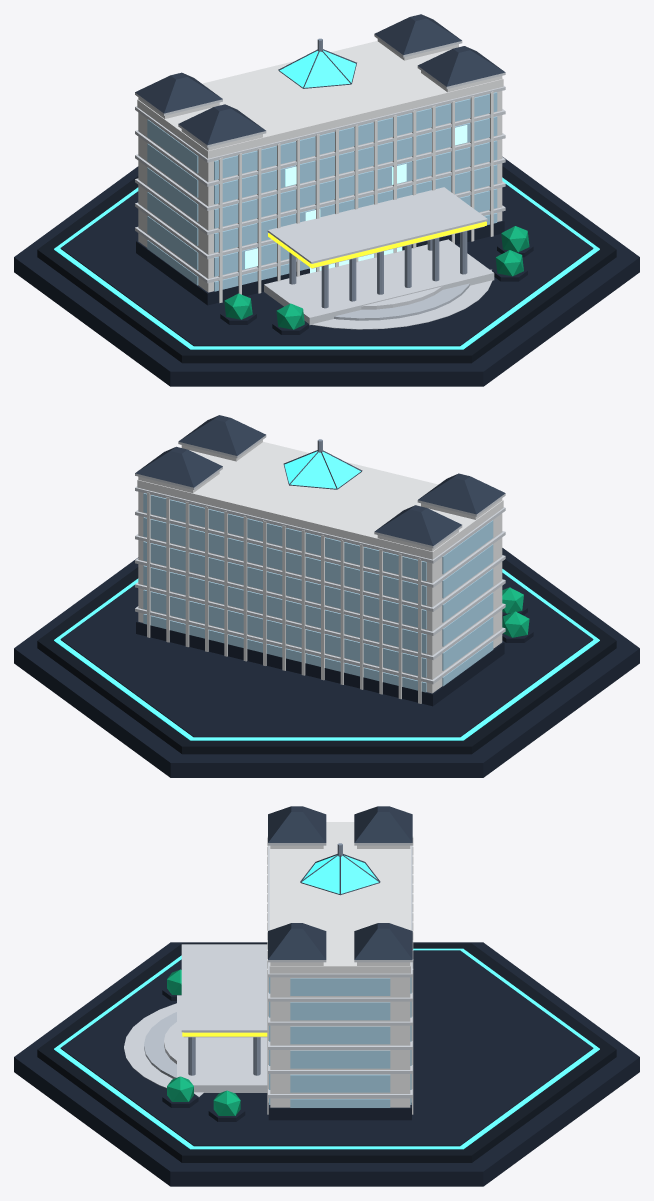
The model's file is hcmus_hq.glb.
The picture shows the model from 3 angles, top to bottom: view 1: azimuth 30°, elevation 25°; view 2: azimuth 150°, elevation 25°; view 3: azimuth 270°, elevation 25°; orthographic projection.
Visible parts, largest first — view 1: Pedestal_Island, Pedestal_Hex_Plinth, Cube.063, Pedestal_Hex_Podium, Cube.064, Cube.074, Building_Main_Body, Glass_Front_5, Glass_Front_3, Glass_Front_4, Pedestal_Glow_Ring, Glass_Front_2 (+32 smaller); view 2: Pedestal_Island, Pedestal_Hex_Plinth, Cube.063, Pedestal_Hex_Podium, Building_Main_Body, Cube.002, Cube.005, Cube.006, Cube.003, Cube.004, Cube, Pedestal_Glow_Ring (+34 smaller); view 3: Pedestal_Island, Pedestal_Hex_Plinth, Pedestal_Hex_Podium, Cube.063, Cube.064, Building_Main_Body, Cube.074, Pedestal_Glow_Ring, Corner_FR_Roof, Corner_BR_Roof, Corner_BL_Roof, Corner_FL_Roof (+18 smaller).
Boxes of the visible parts, x1,y1,x2,y2 form: Pedestal_Island: (60,184,593,346); Pedestal_Hex_Plinth: (14,156,639,386); Cube.063: (137,41,503,158); Pedestal_Hex_Podium: (37,166,616,363); Cube.064: (267,187,487,263); Cube.074: (264,239,494,325); Building_Main_Body: (138,91,502,292); Glass_Front_5: (214,92,497,180); Glass_Front_3: (214,140,497,228); Glass_Front_4: (214,116,497,204); Pedestal_Glow_Ring: (54,177,599,349); Glass_Front_2: (214,164,497,252); Pedestal_Island: (60,572,593,737); Pedestal_Hex_Plinth: (14,548,639,777); Cube.063: (137,441,503,559); Pedestal_Hex_Podium: (37,559,616,754); Building_Main_Body: (138,491,502,693); Cube.002: (143,589,426,677); Cube.005: (143,517,426,605); Cube.006: (143,493,426,580); Cube.003: (143,565,426,653); Cube.004: (143,541,426,629); Cube: (136,620,504,706); Pedestal_Glow_Ring: (54,569,599,740); Pedestal_Island: (60,950,593,1146); Pedestal_Hex_Plinth: (14,942,639,1186); Pedestal_Hex_Podium: (37,943,616,1162); Cube.063: (269,822,410,973); Cube.064: (181,944,267,1032); Building_Main_Body: (270,977,410,1107); Cube.074: (177,995,267,1092); Pedestal_Glow_Ring: (54,948,599,1149); Corner_FR_Roof: (268,923,326,959); Corner_BR_Roof: (354,923,412,959); Corner_BL_Roof: (354,806,412,842); Corner_FL_Roof: (268,806,326,842).
Size of the model in its own units: 17.32 by 8.03 by 20.
